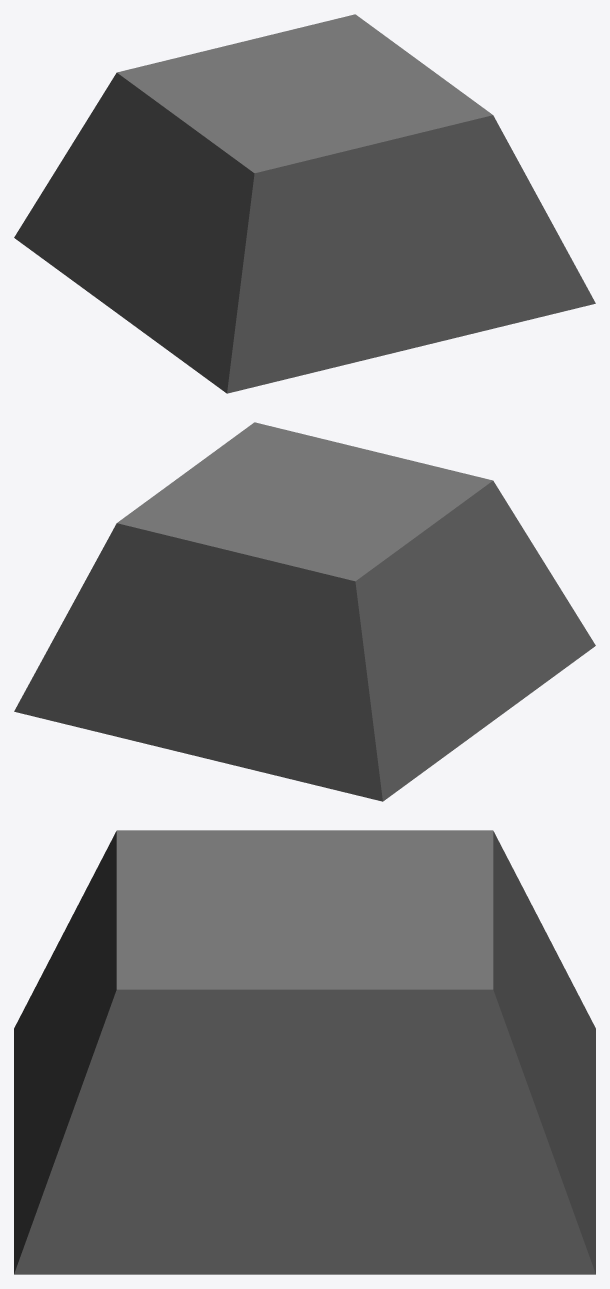
The model's file is SM_Env_Rock_Grey_03.fbx.
3 views of the same model, one above another, from view 1: azimuth 30°, elevation 25°; view 2: azimuth 150°, elevation 25°; view 3: azimuth 270°, elevation 25° (orthographic). The views are drawn at different scales.
Parts seen in each view (by area): view 1: SM_Env_Rock_Grey_03; view 2: SM_Env_Rock_Grey_03; view 3: SM_Env_Rock_Grey_03.
Boxes of the visible parts, x1,y1,x2,y2 form: SM_Env_Rock_Grey_03: (14,14,595,393); SM_Env_Rock_Grey_03: (14,422,595,801); SM_Env_Rock_Grey_03: (14,830,595,1274).
Size of the model in its own units: 0.754 by 0.3455 by 0.754.
